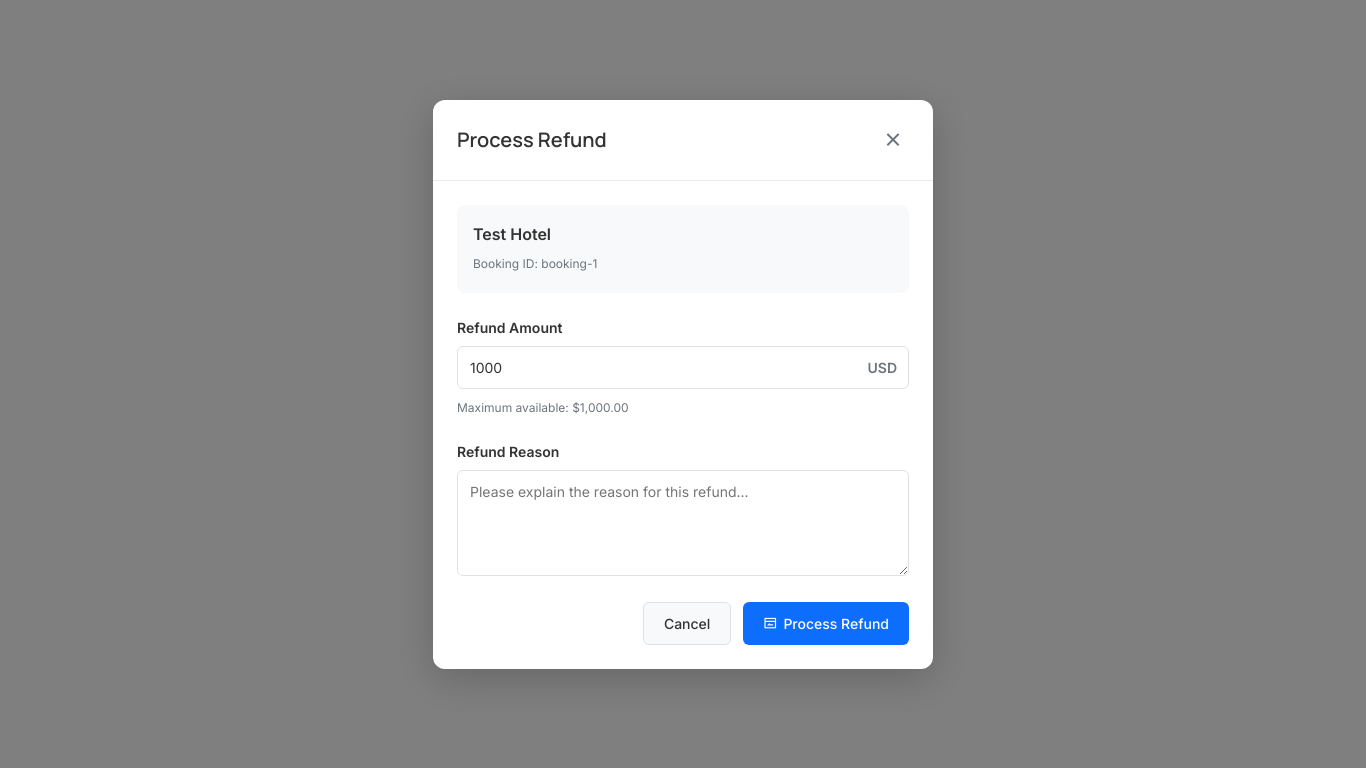
Scenario: RefundModal › should show error when reason is empty
Click the button "Process Refund" at (826, 623), box [743,602,909,644]
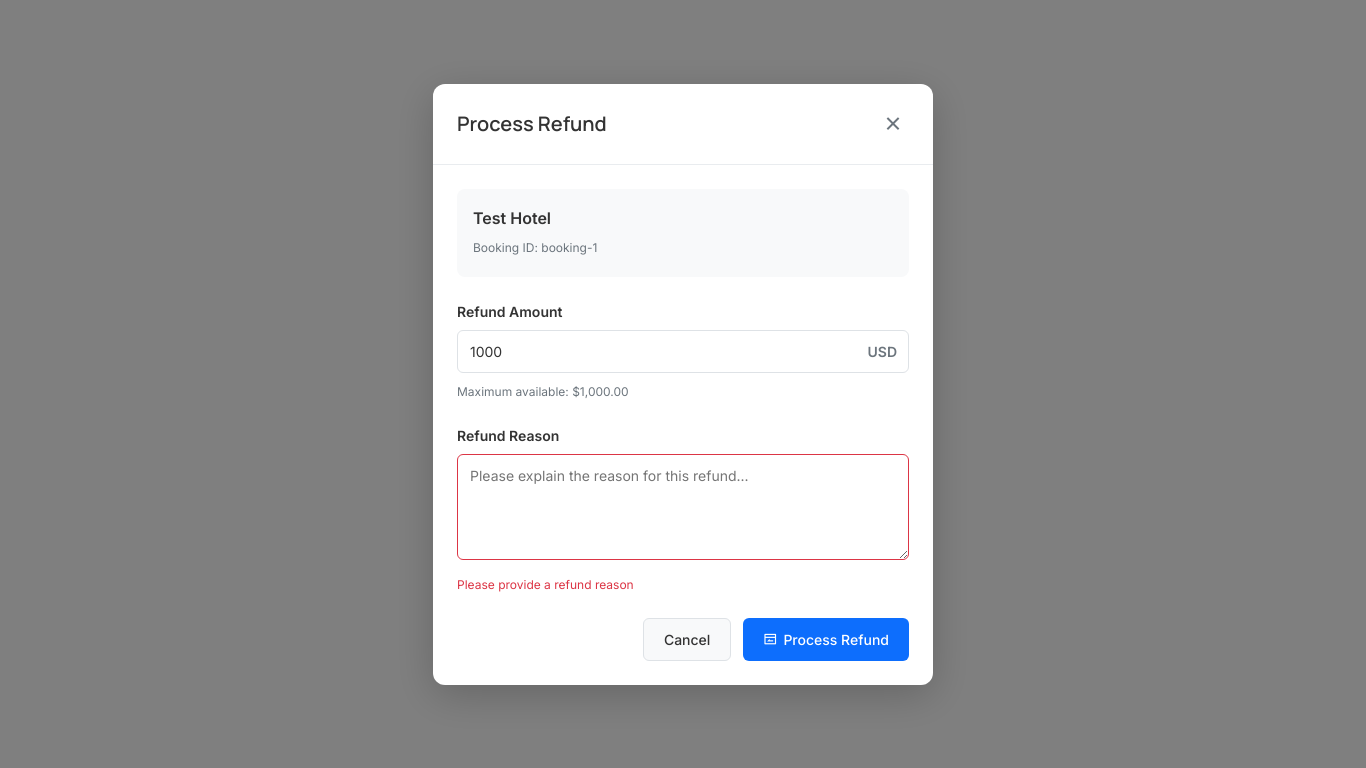
Now the text "Please provide a refund reason" is shown, box [457,576,634,592]
